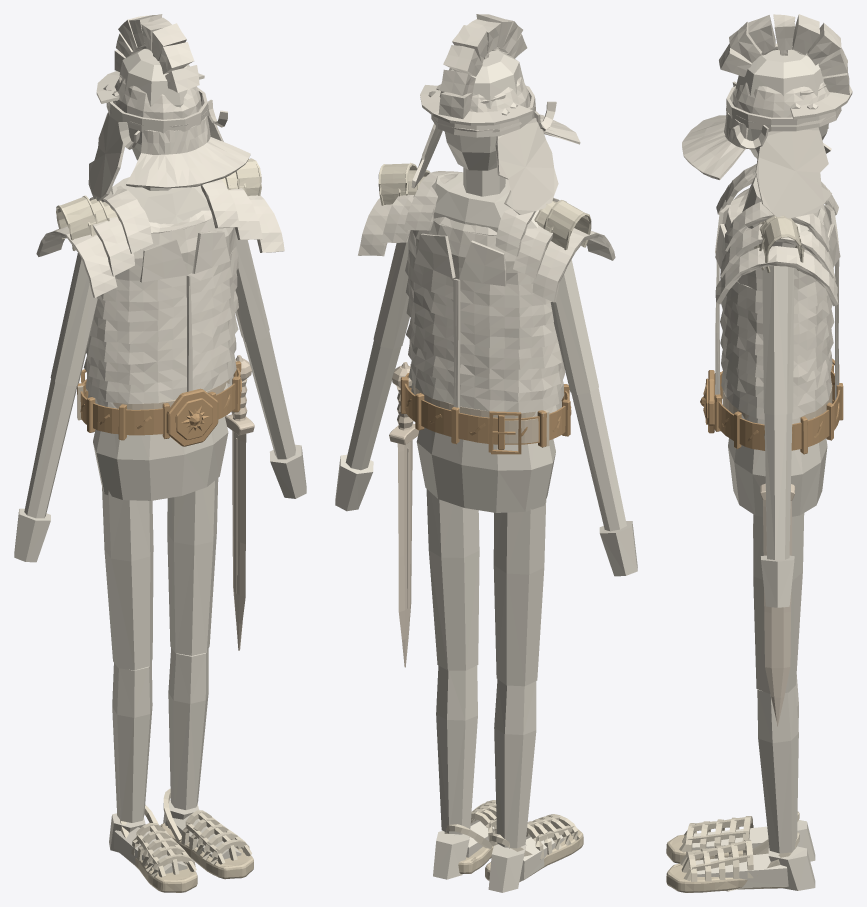
Rendered from roman-male-skinny.glb.
3 views of the same model, side by side, from view 1: azimuth 30°, elevation 25°; view 2: azimuth 150°, elevation 25°; view 3: azimuth 270°, elevation 25° (orthographic). The views are drawn at different scales.
Parts seen in each view (by area): view 1: torso, leg_upper_l, leg_upper_r, helmet:neck_guard, leg_lower_r, leg_lower_l, arm_lower_l, arm_upper_l, cuirass:girth_hoop_4, cuirass:girth_hoop_2, arm_lower_r, cuirass:girth_hoop_3 (+34 smaller); view 2: torso, leg_upper_l, leg_upper_r, leg_lower_l, leg_lower_r, helmet:cheek_guard_r, arm_lower_l, arm_upper_l, cuirass:girth_hoop_2, arm_lower_r, head, cuirass:girth_hoop_3 (+37 smaller); view 3: leg_lower_r, helmet:cheek_guard_l, torso, arm_upper_r, arm_lower_r, leg_upper_r, head, helmet:neck_guard, gladius:blade, cuirass:shoulder_lame_l2, helmet:bowl, cuirass:girth_hoop_4 (+37 smaller).
Part boxes in pixels (box(x1,y1,x2,y2)): torso: box(93, 177, 228, 500); leg_upper_l: box(102, 486, 153, 670); leg_upper_r: box(167, 478, 218, 655); helmet:neck_guard: box(126, 116, 250, 188); leg_lower_r: box(168, 648, 208, 809); leg_lower_l: box(112, 661, 152, 822); arm_lower_l: box(24, 378, 77, 518); arm_upper_l: box(50, 253, 97, 385); cuirass:girth_hoop_4: box(90, 290, 238, 343); cuirass:girth_hoop_2: box(83, 334, 236, 384); arm_lower_r: box(243, 332, 295, 459); cuirass:girth_hoop_3: box(86, 313, 238, 364); torso: box(413, 172, 555, 512); leg_upper_l: box(493, 498, 546, 686); leg_upper_r: box(426, 489, 479, 670); leg_lower_l: box(494, 679, 536, 848); leg_lower_r: box(436, 665, 477, 834); helmet:cheek_guard_r: box(495, 118, 558, 214); arm_lower_l: box(571, 388, 626, 531); arm_upper_l: box(550, 259, 598, 394); cuirass:girth_hoop_2: box(408, 339, 565, 392); arm_lower_r: box(345, 340, 401, 470); head: box(443, 50, 523, 170); cuirass:girth_hoop_3: box(406, 318, 562, 369); leg_lower_r: box(757, 686, 798, 853); helmet:cheek_guard_l: box(755, 127, 831, 218); torso: box(728, 175, 827, 516); arm_upper_r: box(762, 266, 793, 414); arm_lower_r: box(764, 413, 792, 559); leg_upper_r: box(753, 513, 804, 694); head: box(735, 49, 828, 158); helmet:neck_guard: box(682, 112, 748, 179); gladius:blade: box(763, 500, 791, 726); cuirass:shoulder_lame_l2: box(715, 246, 838, 306); helmet:bowl: box(732, 55, 830, 117); cuirass:girth_hoop_4: box(720, 309, 834, 356).
Size of the model in its own units: 0.6898 by 1.87 by 0.3681.
